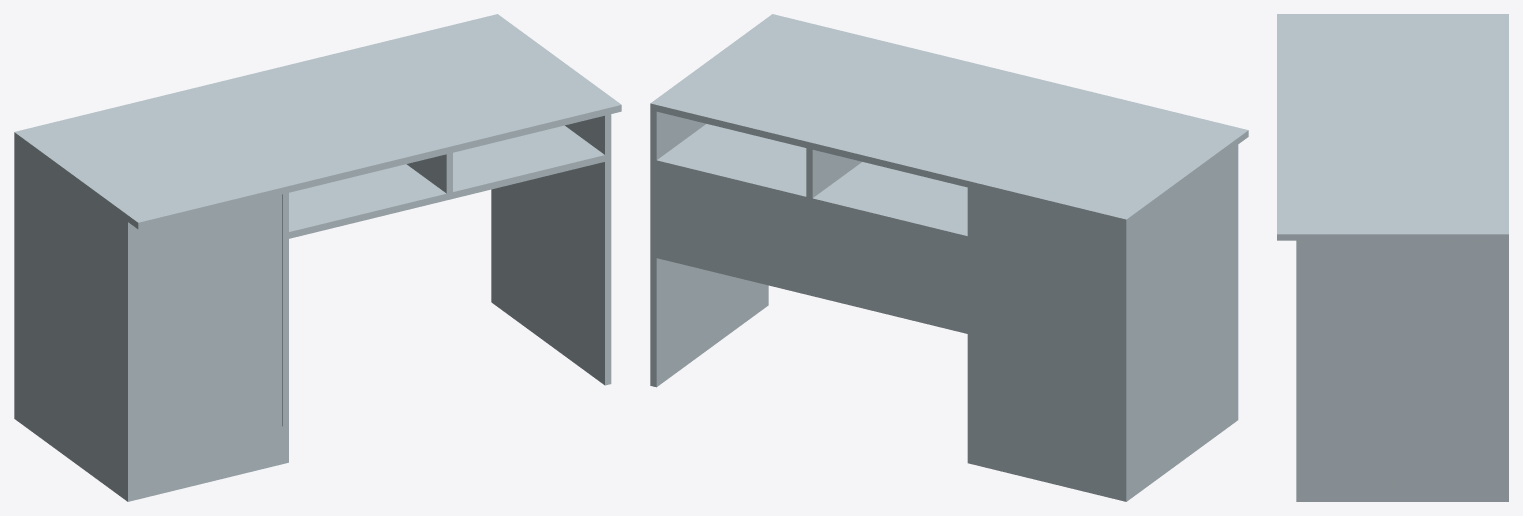
Rendered from assembly.glb.
The picture shows the model from 3 angles, left to right: view 1: azimuth 30°, elevation 25°; view 2: azimuth 150°, elevation 25°; view 3: azimuth 270°, elevation 25°; orthographic projection. The views are drawn at different scales.
Parts seen in each view (by area): view 1: tapa, puerta_armario, costado_izquierdo, costado_derecho, repisa_superior, zocalo_delantero, division_armario, fondo_armario_inferior, separador_nichos; view 2: tapa, trasera_armario, costado_izquierdo, faldon_trasero, repisa_superior, costado_derecho, zocalo_trasero, division_armario, separador_nichos, fondo_armario_inferior; view 3: costado_derecho, tapa.
Boxes of the visible parts, x1,y1,x2,y2 form: tapa: [14, 14, 621, 229]; puerta_armario: [134, 194, 281, 462]; costado_izquierdo: [14, 139, 134, 501]; costado_derecho: [491, 114, 611, 385]; repisa_superior: [289, 125, 604, 238]; zocalo_delantero: [134, 433, 282, 500]; division_armario: [282, 193, 288, 463]; fondo_armario_inferior: [134, 426, 282, 469]; separador_nichos: [406, 153, 452, 193]; tapa: [650, 14, 1248, 226]; trasera_armario: [974, 189, 1119, 463]; costado_izquierdo: [1120, 145, 1238, 501]; faldon_trasero: [656, 167, 967, 333]; repisa_superior: [656, 124, 967, 242]; costado_derecho: [650, 110, 768, 387]; zocalo_trasero: [974, 434, 1119, 500]; division_armario: [967, 187, 973, 464]; separador_nichos: [806, 148, 861, 198]; fondo_armario_inferior: [974, 428, 1119, 469]; costado_derecho: [1296, 240, 1508, 501]; tapa: [1277, 14, 1508, 240].
Size of the model in its own units: 1.35 by 0.765 by 0.6.
